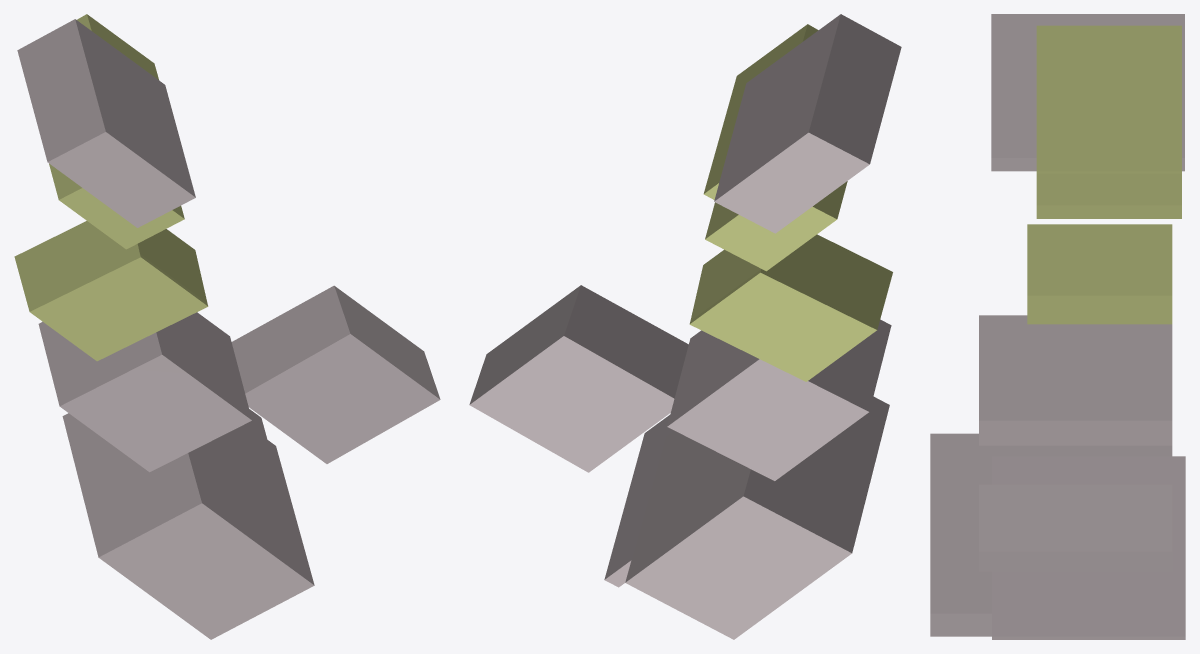
The picture shows the model from 3 angles, left to right: view 1: azimuth 30°, elevation 25°; view 2: azimuth 150°, elevation 25°; view 3: azimuth 270°, elevation 25°; orthographic projection. The views are drawn at different scales.
Parts seen in each view (by area): view 1: 0_1_3_2_2_2_2_0_0; view 2: 0_1_3_2_2_2_2_0_0; view 3: 0_1_3_2_2_2_2_0_0.
Boxes of the visible parts, x1,y1,x2,y2 form: 0_1_3_2_2_2_2_0_0: [14, 14, 440, 639]; 0_1_3_2_2_2_2_0_0: [469, 14, 901, 639]; 0_1_3_2_2_2_2_0_0: [930, 14, 1185, 639].
Bounding box in the file's own units: 25.85 × 39.84 × 15.81.
